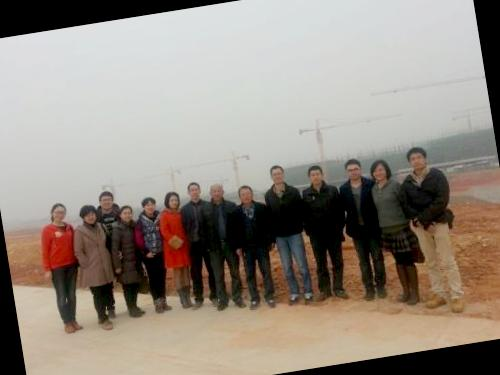no_helmet: (402, 142, 432, 176), (368, 154, 395, 184), (76, 200, 102, 226), (341, 154, 365, 181), (266, 159, 290, 186), (46, 199, 70, 226), (161, 186, 184, 212), (236, 181, 258, 207), (306, 160, 326, 188), (96, 186, 118, 211), (206, 178, 228, 202), (184, 177, 205, 202), (115, 201, 137, 224), (139, 194, 160, 218)
